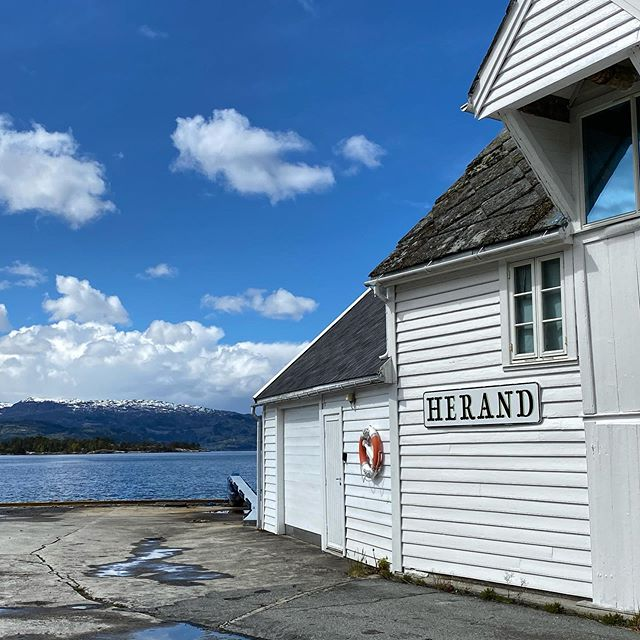building: (256, 1, 640, 618)
mountain: (4, 372, 233, 423)
sky: (1, 1, 407, 350)
